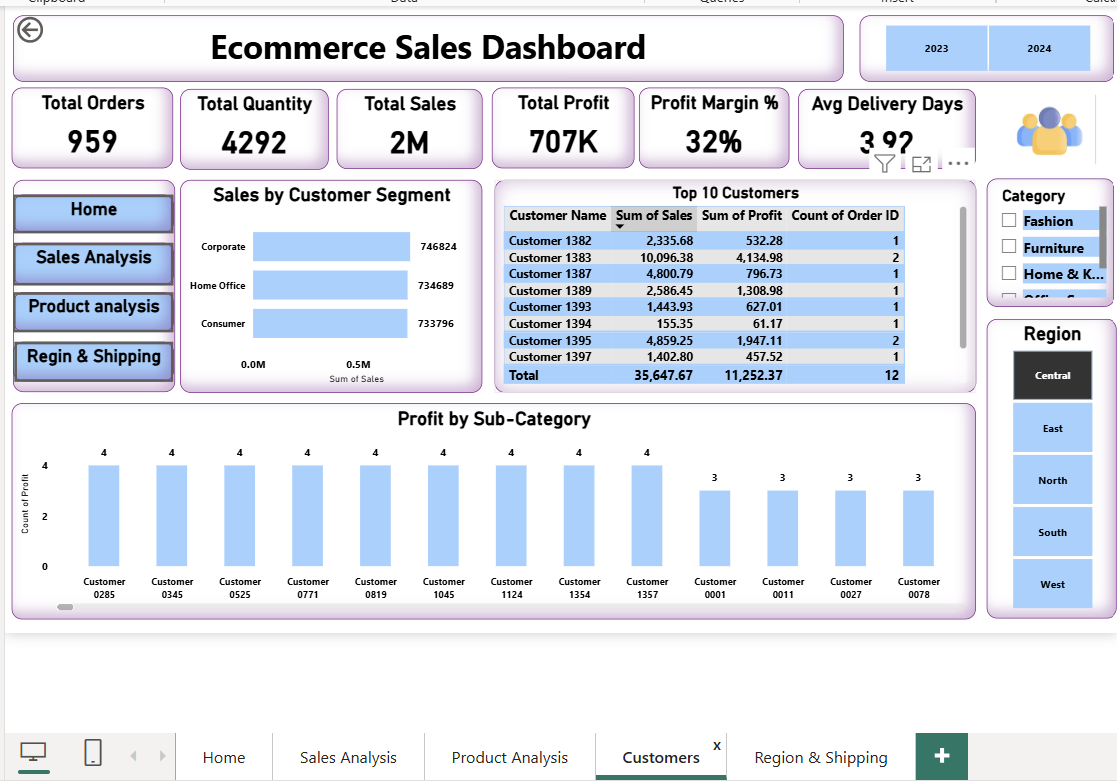

What the dashboard file says about the page in this screenshot:
{"tool":"powerbi","page":{"name":"Customers","canvas":[1280,720],"ordinal":3},"visuals":[{"type":"textbox","box":[9.6,10,954,76],"z":0},{"type":"slicer","fields":{"Values":["Sheet1.Year"]},"box":[980.8,10.9,293.2,76],"z":1000},{"type":"card","title":"Total Orders","fields":{"Values":["Count(Sheet1.Order ID)"]},"box":[7.7,93.7,185.7,92.9],"z":2000},{"type":"card","title":"Total Quantity","fields":{"Values":["Sum(Sheet1.Quantity)"]},"box":[201.5,95.3,170.1,92.9],"z":3000},{"type":"card","title":"Total Sales","fields":{"Values":["Sum(Sheet1.Sales)"]},"box":[381.2,95.3,167.7,91.7],"z":4000},{"type":"card","title":"Total Profit","fields":{"Values":["Sum(Sheet1.Profit)"]},"box":[558.6,94.1,164.1,92.9],"z":5000},{"type":"card","title":"Profit Margin %","fields":{"Values":["Sheet1.Profit Margin"]},"box":[728.7,94.1,172.5,92.9],"z":6000},{"type":"card","title":"Avg Delivery Days","fields":{"Values":["Sheet1.Average Delivery Days"]},"box":[910.9,95.3,203.9,91.7],"z":7000},{"type":"slicer","fields":{"Values":["Sheet1.Category"]},"box":[1127.1,198.6,147.1,147.1],"z":8000},{"type":"slicer","title":"Region","fields":{"Values":["Sheet1.Region"]},"box":[1127.1,360,150,344.3],"z":9000},{"type":"columnChart","title":" Profit by Sub-Category","fields":{"Category":["Sheet1.Customer Name"],"Y":["CountNonNull(Sheet1.Profit)"]},"box":[8.2,455.6,1107.4,248.4],"z":10000},{"type":"barChart","title":"Sales by Customer Segment","fields":{"Category":["Sheet1.Segment"],"Y":["Sum(Sheet1.Sales)"]},"box":[201.7,199,347.2,244.3],"z":11000},{"type":"tableEx","title":"Top 10 Customers","fields":{"Values":["Sheet1.Customer Name","Sum(Sheet1.Sales)","Sum(Sheet1.Profit)","Sheet1.Order ID"]},"box":[562.6,199,553,244.3],"z":12000},{"type":"shape","box":[9,199,186,244],"z":13000},{"type":"shape","title":"Home","box":[9.7,216.6,184.7,44.4],"z":14000},{"type":"shape","title":"Sales Analysis","box":[9.7,272.2,184.7,48.6],"z":15000},{"type":"shape","title":"Product analysis","box":[9.7,329.1,184.7,45.8],"z":16000},{"type":"shape","title":"Regin & Shipping","box":[9.7,386,184.7,45.8],"z":17000},{"type":"image","box":[1128,96.1,145.5,89.2],"z":18000},{"type":"actionButton","box":[9.6,8.2,64.5,39.8],"z":19000},{"type":"actionButton","box":[9.2,271.9,184.3,49.2],"z":20000},{"type":"actionButton","box":[9.2,216.6,184.3,44.5],"z":21000},{"type":"actionButton","box":[10.8,385.6,182.8,46.1],"z":22000},{"type":"actionButton","box":[9.2,328.7,184.3,46.1],"z":23000}]}

Visuals, with their boxes on the page's 1280x720 design canvas (x1, y1, x2, y2). These are canvas units, not pixel positions in the 1117x781 screenshot, which may show the page scaled, cropped or inside an application window:
textbox: {"x1": 10, "y1": 10, "x2": 964, "y2": 86}
slicer - Sheet1.Year: {"x1": 981, "y1": 11, "x2": 1274, "y2": 87}
"Total Orders" card: {"x1": 8, "y1": 94, "x2": 193, "y2": 187}
"Total Quantity" card: {"x1": 202, "y1": 95, "x2": 372, "y2": 188}
"Total Sales" card: {"x1": 381, "y1": 95, "x2": 549, "y2": 187}
"Total Profit" card: {"x1": 559, "y1": 94, "x2": 723, "y2": 187}
"Profit Margin %" card: {"x1": 729, "y1": 94, "x2": 901, "y2": 187}
"Avg Delivery Days" card: {"x1": 911, "y1": 95, "x2": 1115, "y2": 187}
slicer - Sheet1.Category: {"x1": 1127, "y1": 199, "x2": 1274, "y2": 346}
"Region" slicer: {"x1": 1127, "y1": 360, "x2": 1277, "y2": 704}
" Profit by Sub-Category" columnChart: {"x1": 8, "y1": 456, "x2": 1116, "y2": 704}
"Sales by Customer Segment" barChart: {"x1": 202, "y1": 199, "x2": 549, "y2": 443}
"Top 10 Customers" tableEx: {"x1": 563, "y1": 199, "x2": 1116, "y2": 443}
shape: {"x1": 9, "y1": 199, "x2": 195, "y2": 443}
"Home" shape: {"x1": 10, "y1": 217, "x2": 194, "y2": 261}
"Sales Analysis" shape: {"x1": 10, "y1": 272, "x2": 194, "y2": 321}
"Product analysis" shape: {"x1": 10, "y1": 329, "x2": 194, "y2": 375}
"Regin & Shipping" shape: {"x1": 10, "y1": 386, "x2": 194, "y2": 432}
image: {"x1": 1128, "y1": 96, "x2": 1274, "y2": 185}
actionButton: {"x1": 10, "y1": 8, "x2": 74, "y2": 48}
actionButton: {"x1": 9, "y1": 272, "x2": 194, "y2": 321}
actionButton: {"x1": 9, "y1": 217, "x2": 194, "y2": 261}
actionButton: {"x1": 11, "y1": 386, "x2": 194, "y2": 432}
actionButton: {"x1": 9, "y1": 329, "x2": 194, "y2": 375}
